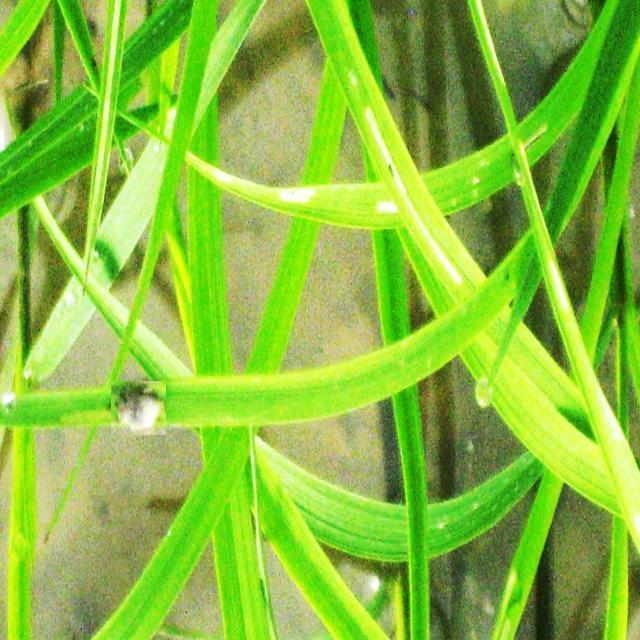rice-bug: (111, 381, 166, 435)
